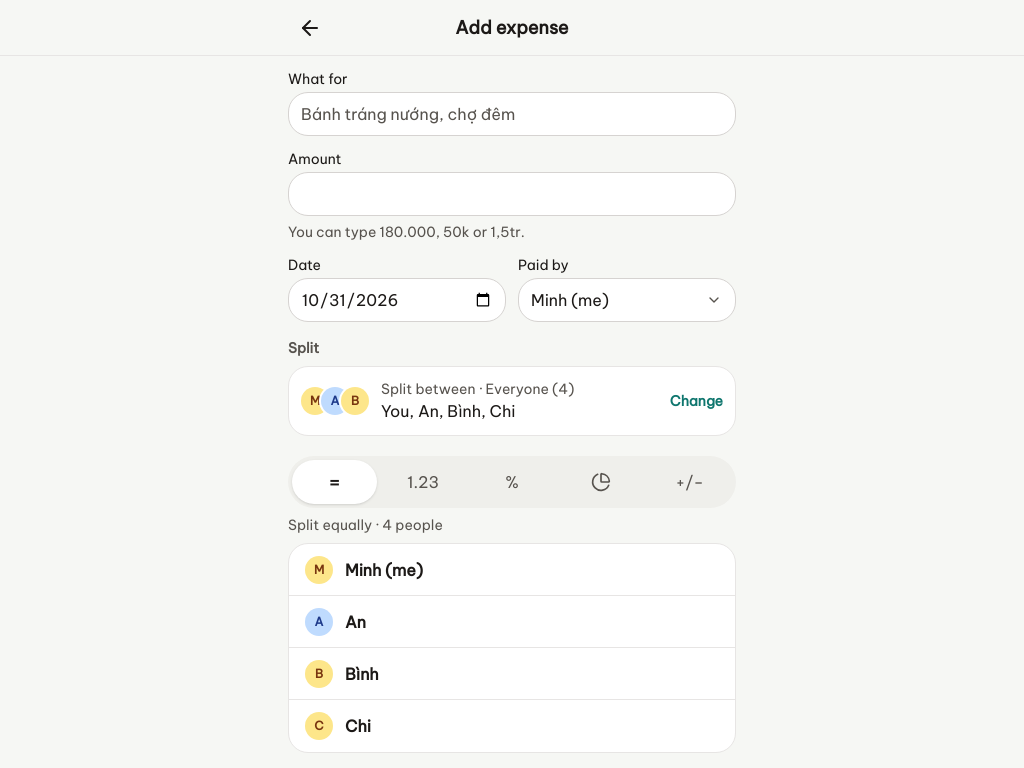
Test: ExpenseForm › understands 1,5tr
Step 1. Type "1,5tr" into the field labelled "Amount" → (512, 194), box left=288, top=172, right=736, bottom=216
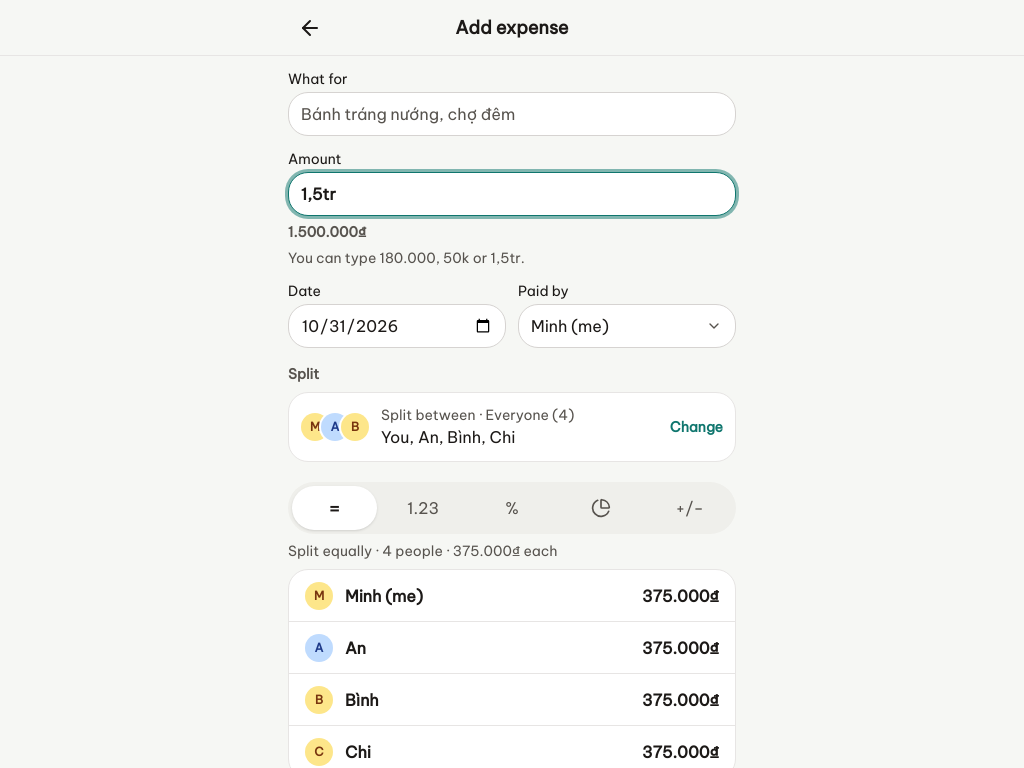
Expected: the text "1.500.000₫" is shown, left=288, top=223, right=366, bottom=241
